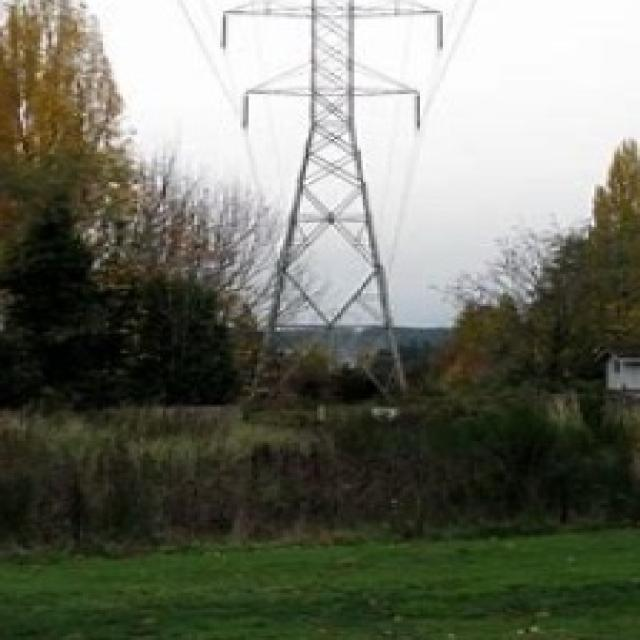utility poles: (340, 274, 530, 396), (182, 222, 321, 364)
